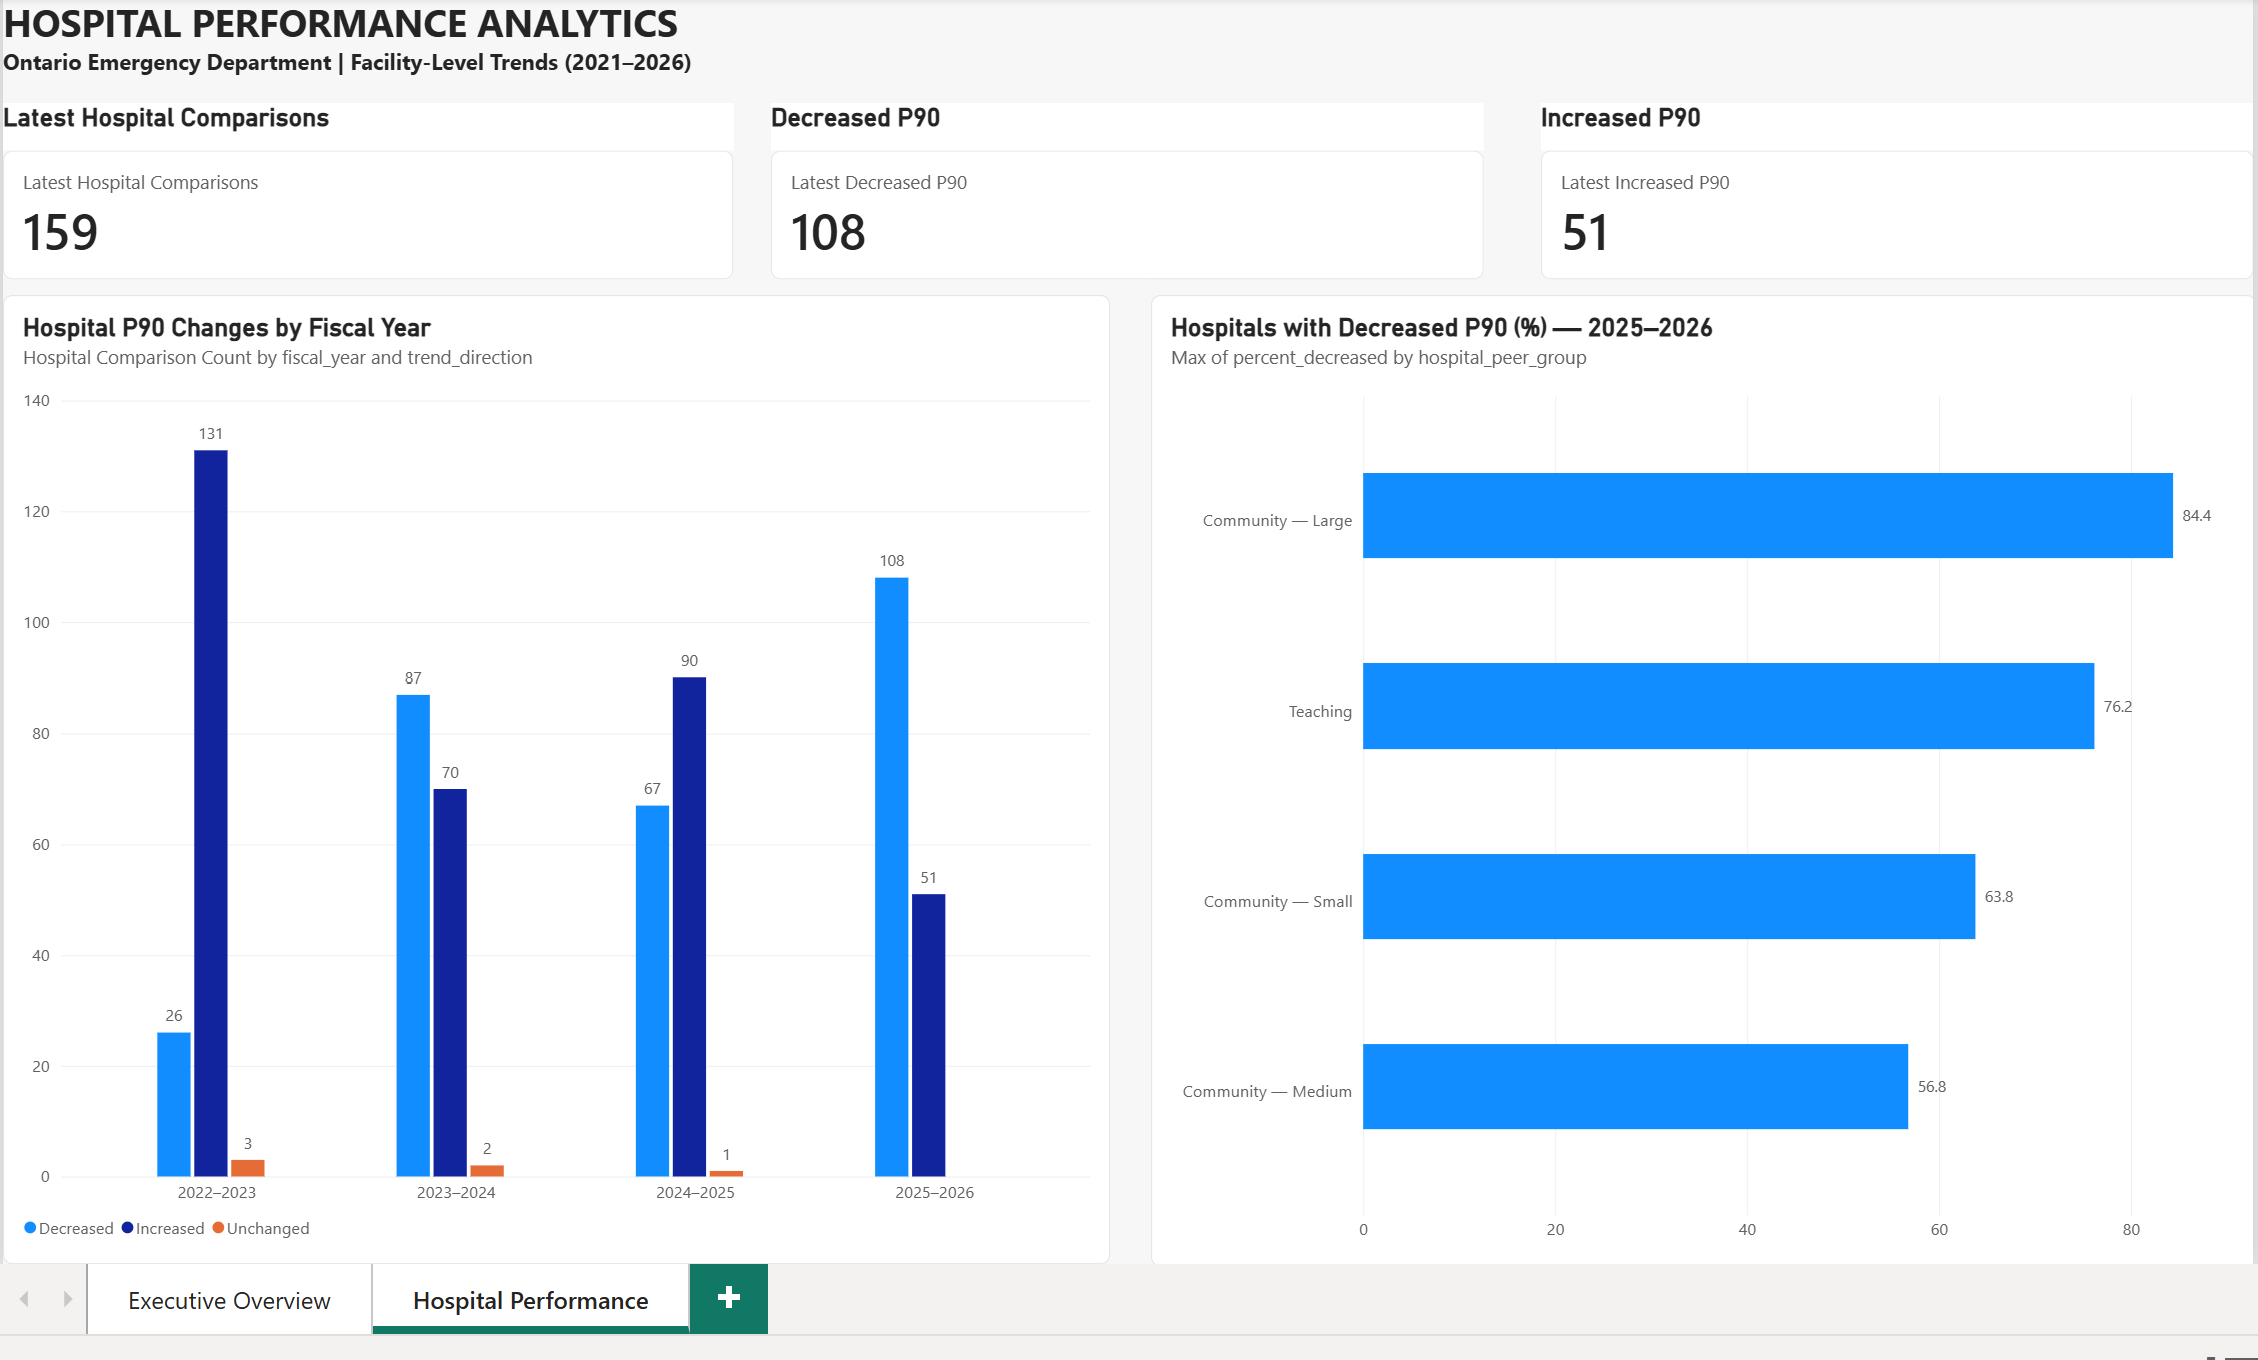

What the dashboard file says about the page in this screenshot:
{"tool":"powerbi","page":{"name":"Hospital Performance","canvas":[1920,1080],"ordinal":1},"visuals":[{"type":"textbox","box":[0,0,1920,89.9],"z":0},{"type":"cardVisual","title":"Latest Hospital Comparisons","fields":{"Data":["hospital_yoy_trends.Latest Hospital Comparisons"]},"box":[0,89.9,623.4,151.1],"z":1},{"type":"cardVisual","title":"Decreased P90","fields":{"Data":["hospital_yoy_trends.Latest Decreased P90"]},"box":[655.9,89.9,608.1,151.1],"z":2},{"type":"cardVisual","title":"Increased P90","fields":{"Data":["hospital_yoy_trends.Latest Increased P90"]},"box":[1311.9,89.9,608.1,151.1],"z":3},{"type":"clusteredColumnChart","title":"Hospital P90 Changes by Fiscal Year","fields":{"Category":["hospital_yoy_trends.fiscal_year"],"Series":["hospital_yoy_trends.trend_direction"],"Y":["hospital_yoy_trends.Hospital Comparison Count"]},"box":[0,254.3,944.7,826.1],"z":4},{"type":"clusteredBarChart","title":"Hospitals with Decreased P90 (%) — 2025–2026","fields":{"Category":["peer_group_yoy_summary.hospital_peer_group"],"Y":["Max(peer_group_yoy_summary.percent_decreased)"]},"box":[979.1,254.3,942.8,828],"z":5}]}

Visuals, with their boxes on the page's 1920x1080 design canvas (x1, y1, x2, y2). These are canvas units, not pixel positions in the 2258x1360 screenshot, which may show the page scaled, cropped or inside an application window:
textbox: 0/0/1920/90
"Latest Hospital Comparisons" cardVisual: 0/90/623/241
"Decreased P90" cardVisual: 656/90/1264/241
"Increased P90" cardVisual: 1312/90/1920/241
"Hospital P90 Changes by Fiscal Year" clusteredColumnChart: 0/254/945/1080
"Hospitals with Decreased P90 (%) — 2025–2026" clusteredBarChart: 979/254/1922/1082
